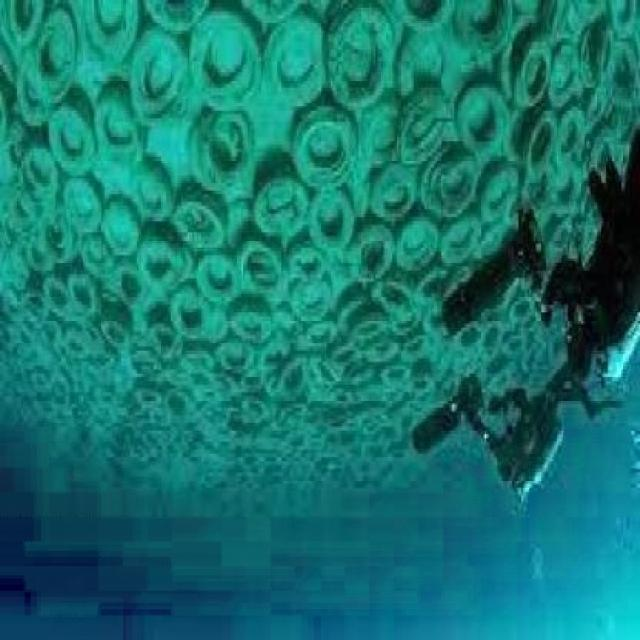tire: (1, 4, 408, 476), (406, 4, 632, 205)
